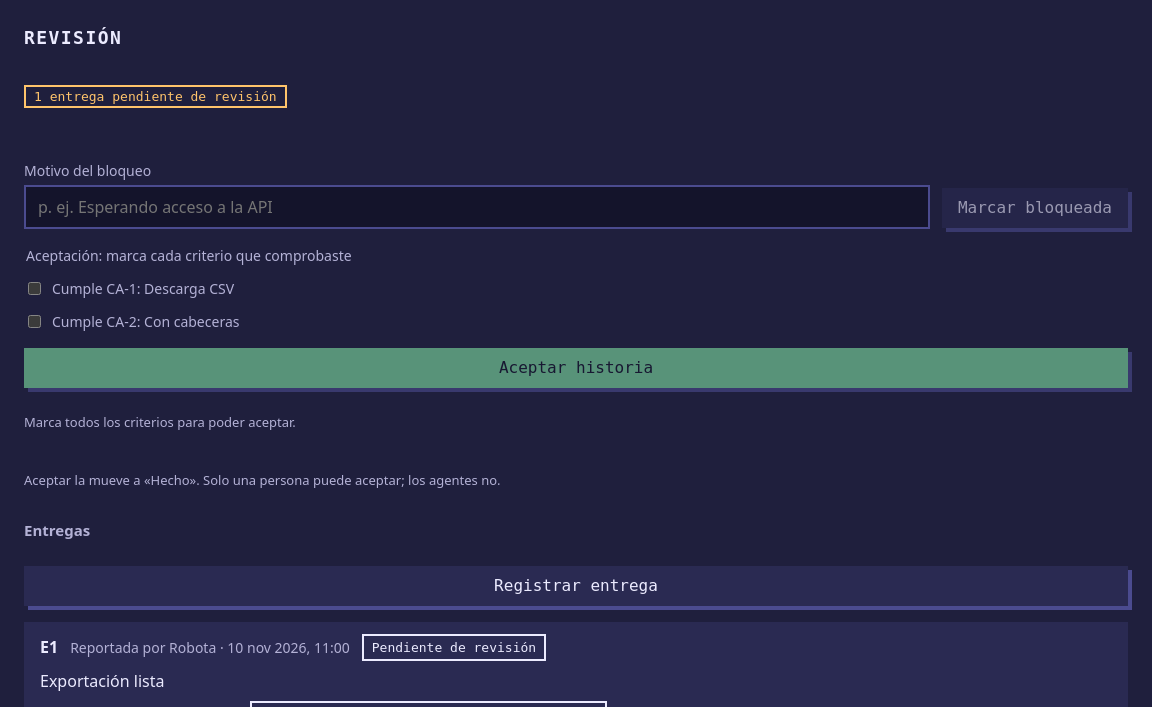
it: ReviewPanel › aceptar exige marcar todos los criterios y envía los marcados
Check: the button "Aceptar historia" is disabled, box left=24, top=348, right=1128, bottom=388
Click the checkbox labelled "Cumple CA-1: Descarga CSV" at [34, 288], box left=28, top=282, right=41, bottom=295
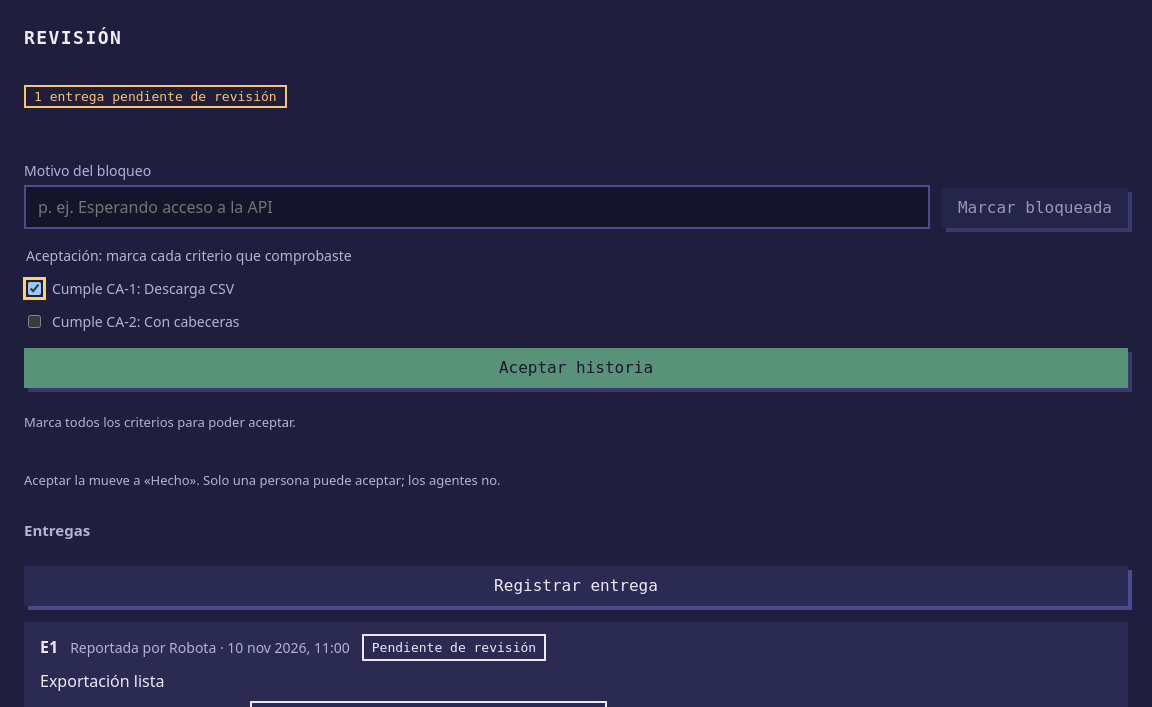
Check: the button "Aceptar historia" is disabled, box left=24, top=348, right=1128, bottom=388
Click the checkbox labelled "Cumple CA-2: Con cabeceras" at [34, 322], box left=28, top=315, right=41, bottom=328
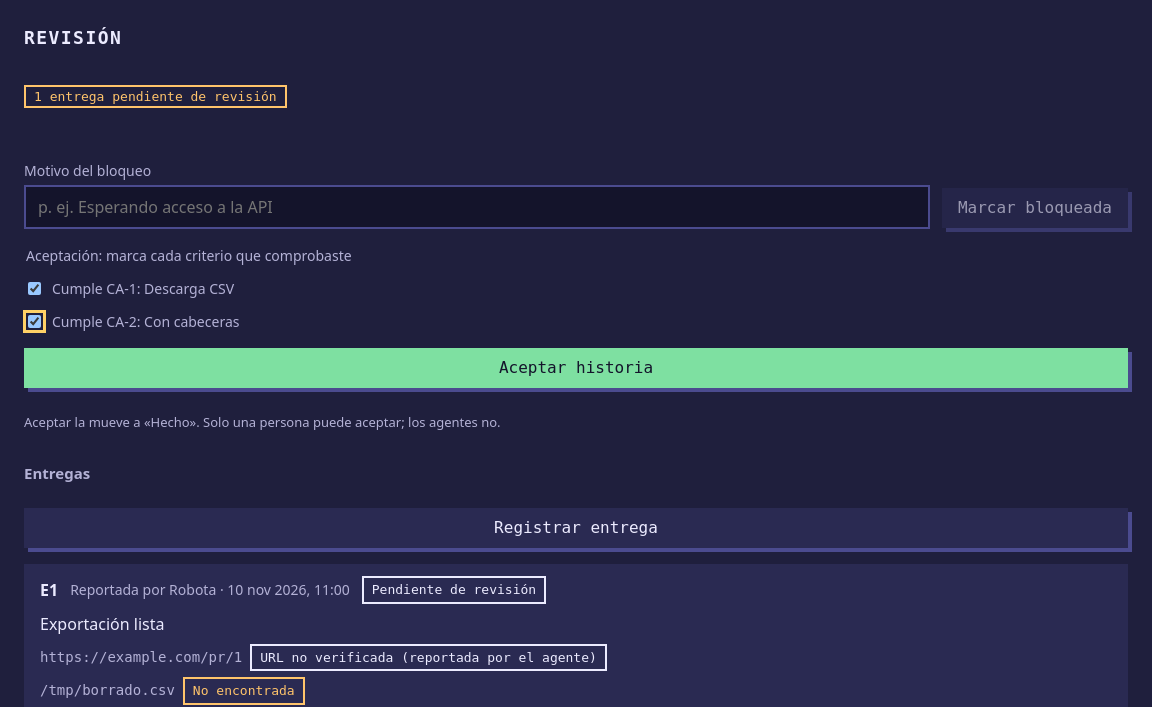
Check: the button "Aceptar historia" is enabled
Click the button "Aceptar historia" at [576, 368], box left=24, top=348, right=1128, bottom=388
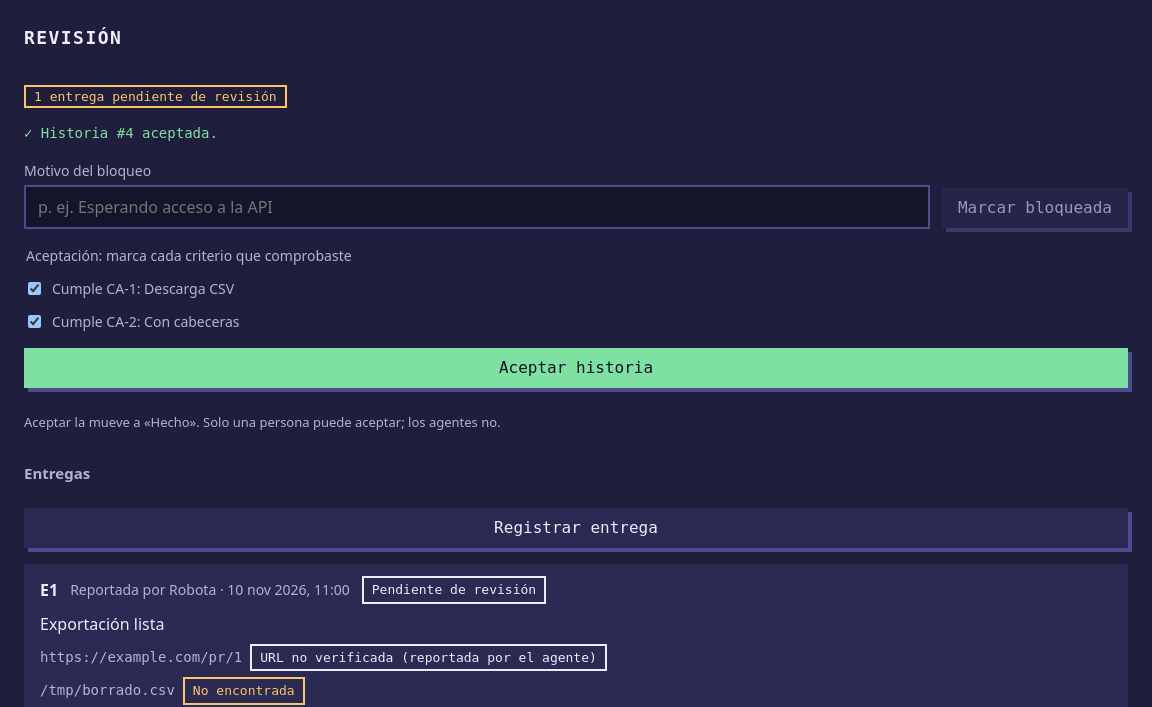
Check: the text "✓ Historia #4 aceptada." is shown, box left=24, top=125, right=218, bottom=141
